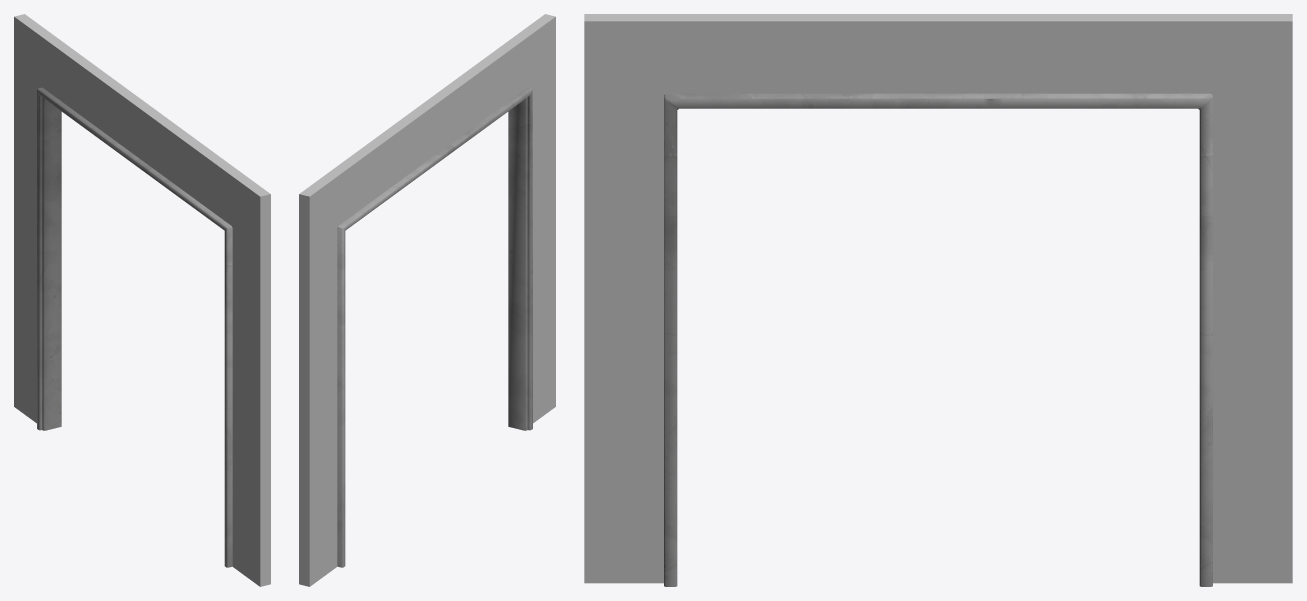
File: wall_door_garage.fbx
The picture shows the model from 3 angles, left to right: view 1: azimuth 30°, elevation 25°; view 2: azimuth 150°, elevation 25°; view 3: azimuth 270°, elevation 25°; orthographic projection. The views are drawn at different scales.
Visible parts, largest first — view 1: indus_bldg_wall_door_garage; view 2: indus_bldg_wall_door_garage; view 3: indus_bldg_wall_door_garage.
Boxes of the visible parts, x1,y1,x2,y2 form: indus_bldg_wall_door_garage: [14, 14, 270, 586]; indus_bldg_wall_door_garage: [299, 14, 555, 586]; indus_bldg_wall_door_garage: [584, 14, 1292, 586].
Size of the model in its own units: 0.2 by 3.5 by 4.
